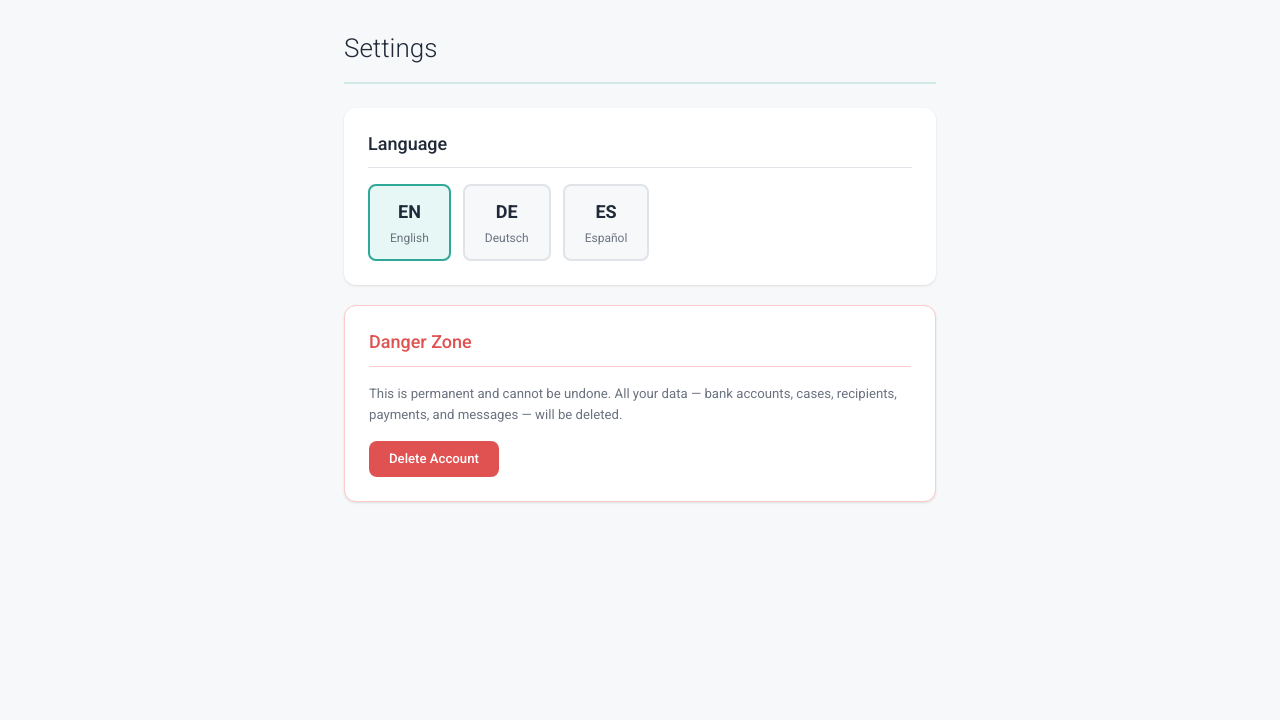
it: SettingsClient — required elements › opens confirmation dialog when Delete Account is clicked
Click the button "Delete Account": (434, 459) [369,441,499,477]
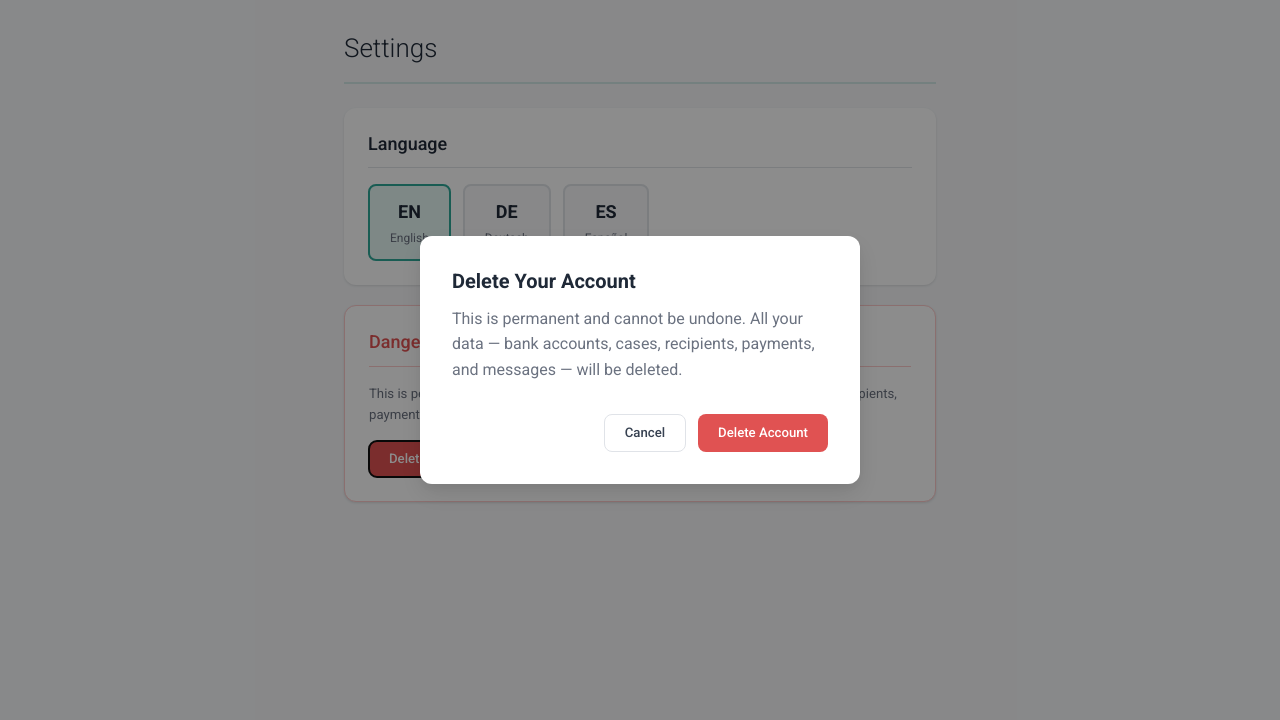
Expected: the dialog is shown, [420,236,860,484]
Expected: the heading "Delete Your Account" is shown, [452,269,636,293]
